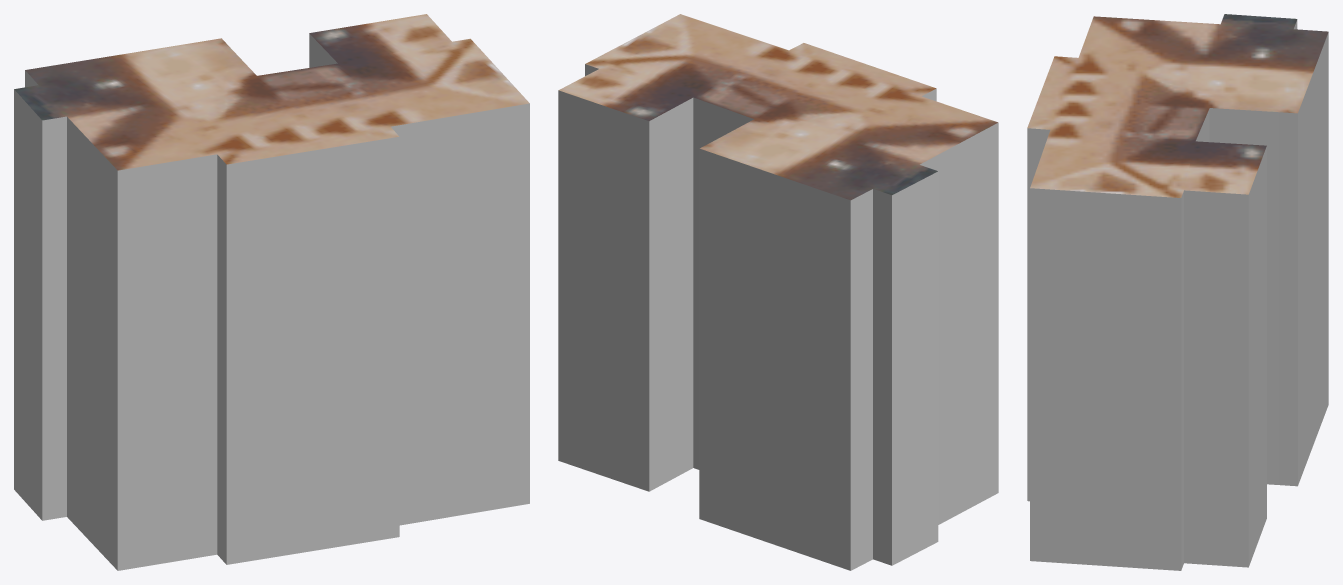
File: DEBW_0010007TxbY.gltf
3 renders of one model, left to right at view 1: azimuth 30°, elevation 25°; view 2: azimuth 150°, elevation 25°; view 3: azimuth 270°, elevation 25°, orthographic. The views are drawn at different scales.
Visible parts, largest first — view 1: Z_UP; view 2: Z_UP; view 3: Z_UP.
Part boxes in pixels (x1=…): Z_UP: x1=14, y1=14, x2=529, y2=570; Z_UP: x1=558, y1=14, x2=998, y2=570; Z_UP: x1=1027, y1=14, x2=1328, y2=570.
Bounding box in the file's own units: 21.55 × 20.35 × 14.92.
2 materials, 1 textured.
